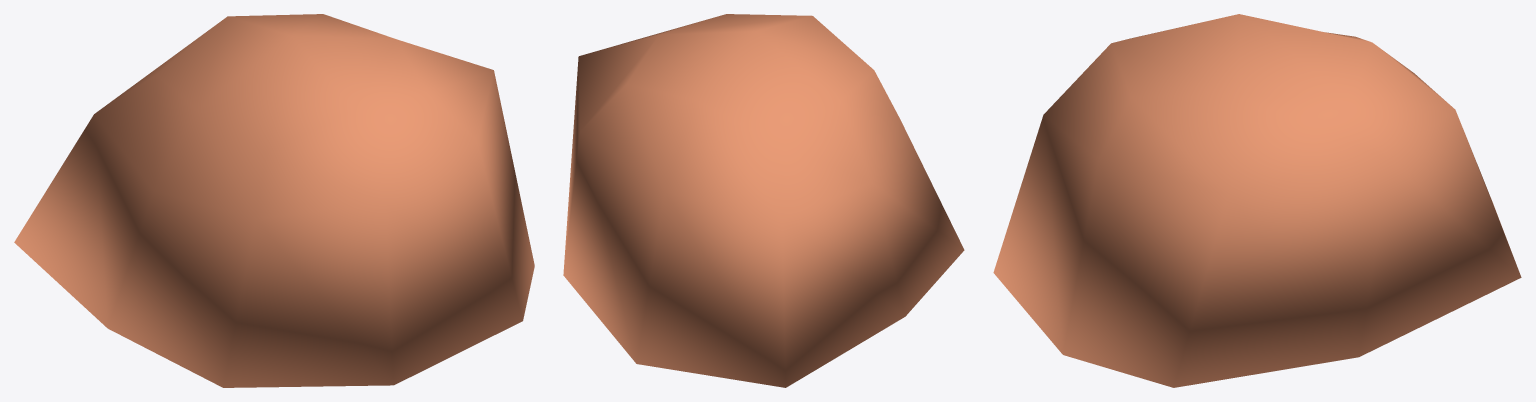
File: Stone3.fbx
The picture shows the model from 3 angles, left to right: view 1: azimuth 30°, elevation 25°; view 2: azimuth 150°, elevation 25°; view 3: azimuth 270°, elevation 25°; orthographic projection. The views are drawn at different scales.
Parts seen in each view (by area): view 1: Cube; view 2: Cube; view 3: Cube.
Boxes of the visible parts, x1,y1,x2,y2 form: Cube: [14, 14, 534, 387]; Cube: [563, 14, 964, 387]; Cube: [993, 14, 1521, 387].
Size of the model in its own units: 250 by 160 by 287.
